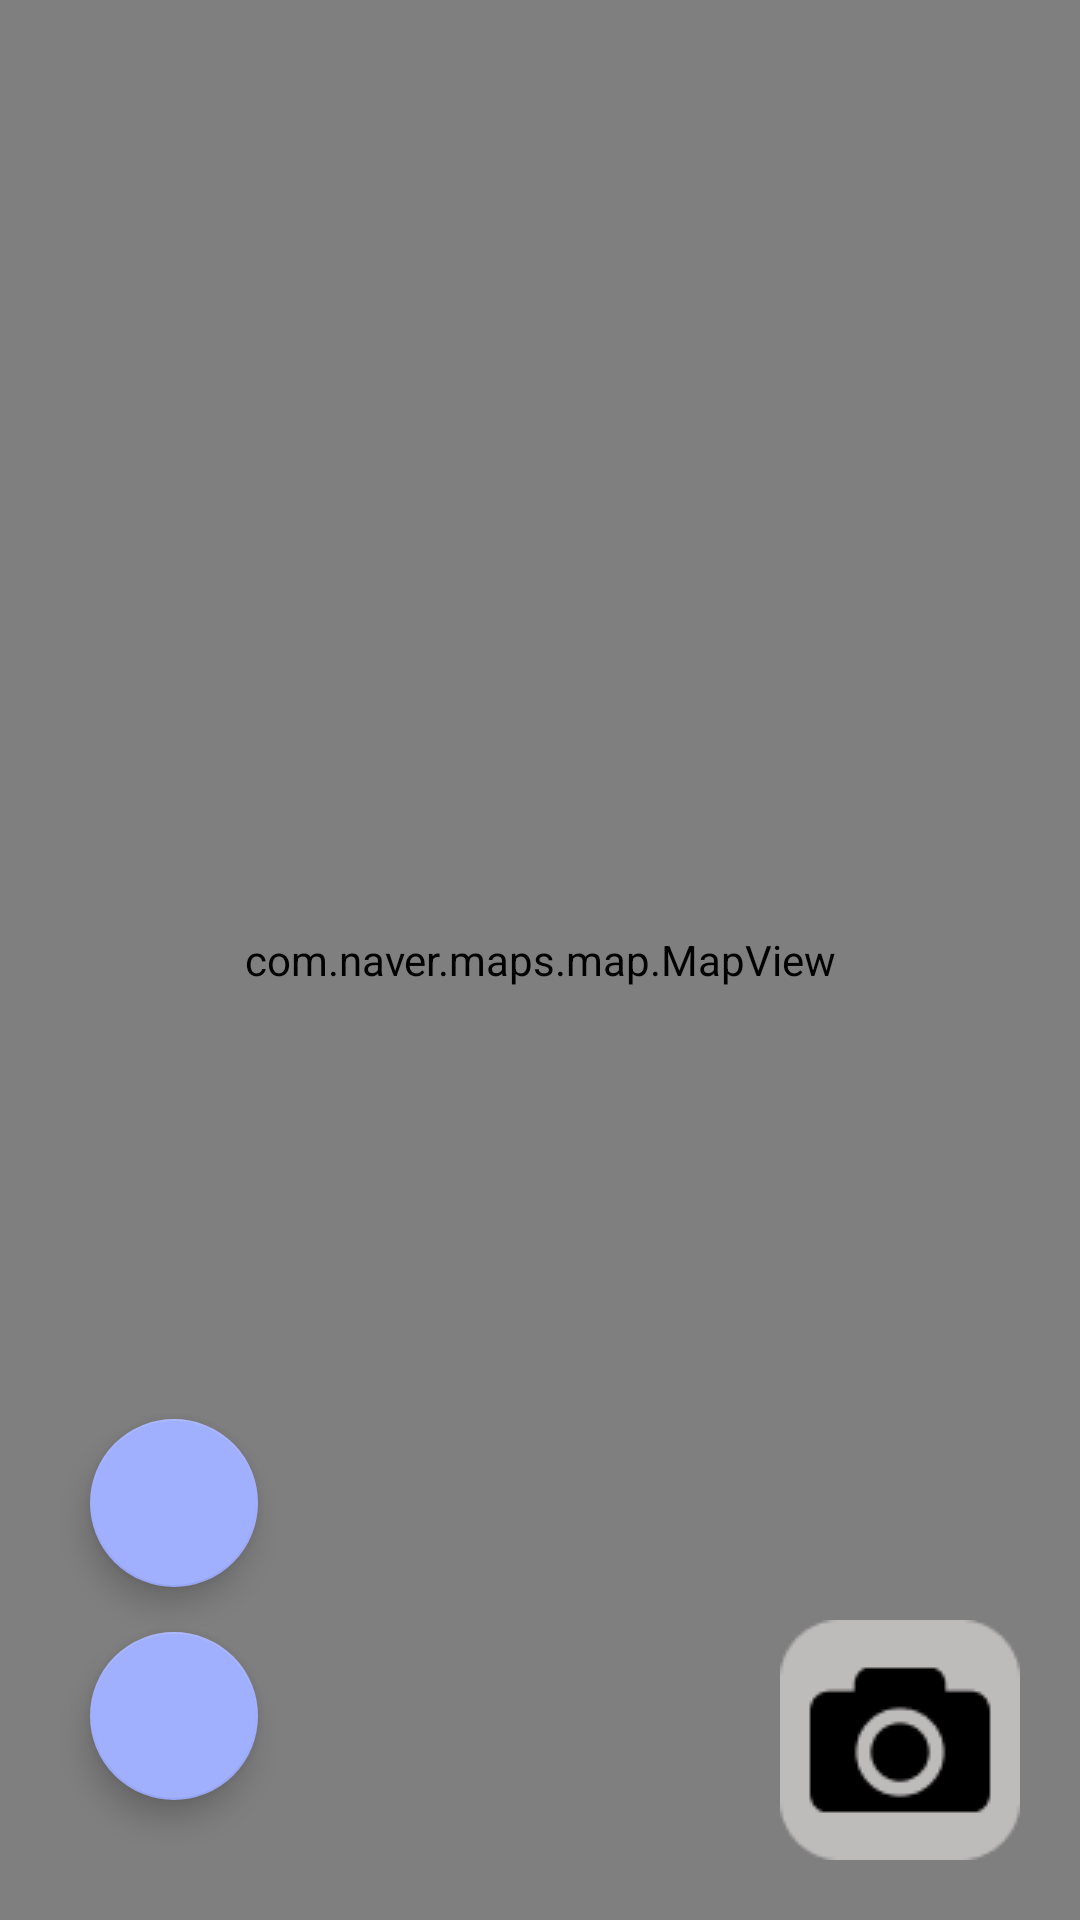

Point at icon controls on the screen. Image size 1080x1920, points as (x=x, y=y).
ar cam: (x=900, y=1740)
